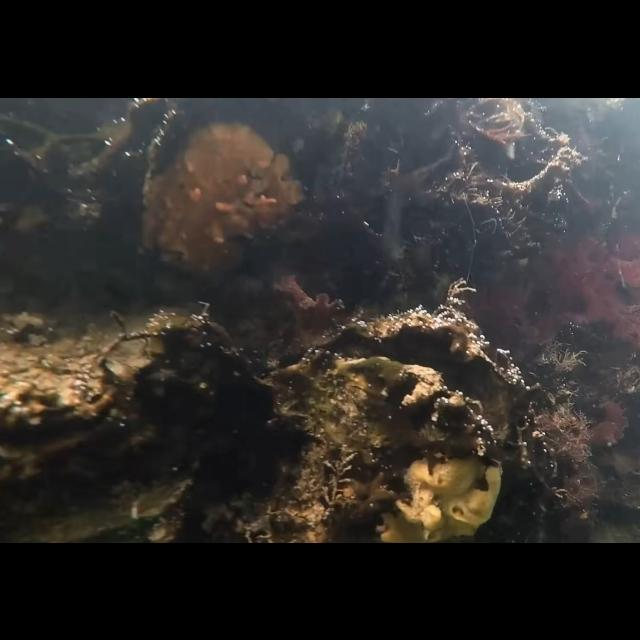Oyster-Closed: (139, 109, 305, 284)
Oyster-Open: (270, 310, 514, 542), (0, 302, 214, 478), (27, 478, 193, 542)
